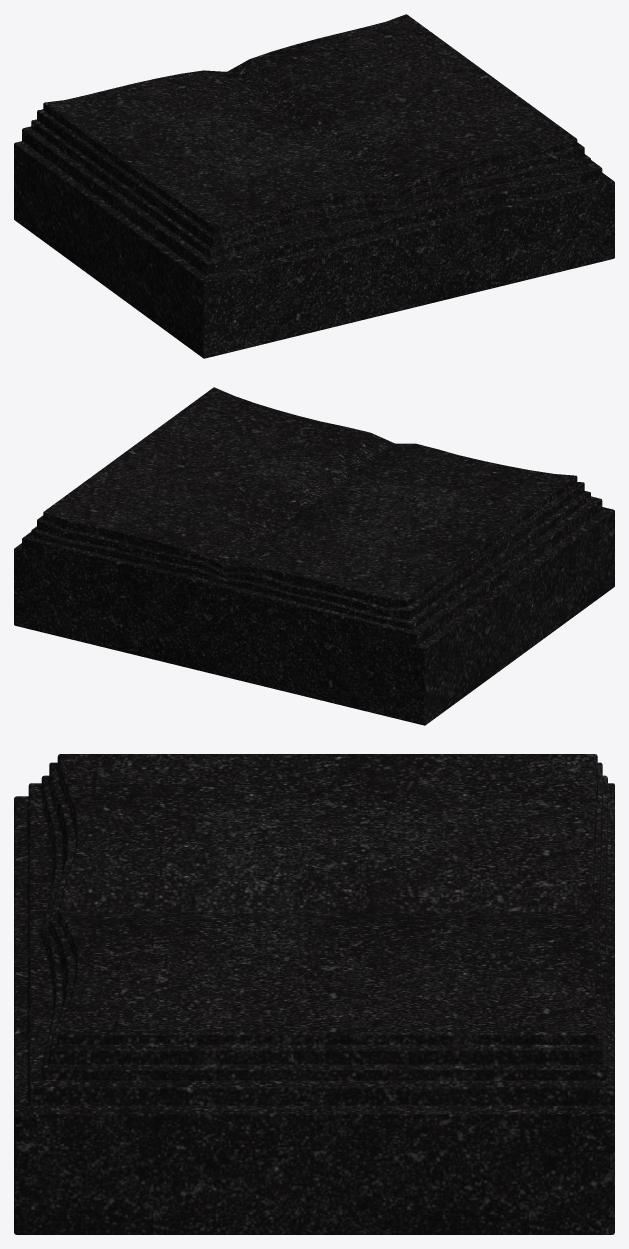
The model's file is Number 41.gltf.
3 renders of one model, top to bottom at view 1: azimuth 30°, elevation 25°; view 2: azimuth 150°, elevation 25°; view 3: azimuth 270°, elevation 25°, orthographic. The views are drawn at different scales.
Parts seen in each view (by area): view 1: Cube.037; view 2: Cube.037; view 3: Cube.037.
Part boxes in pixels (x1,y1,x2,y2): Cube.037: (14, 14, 614, 358); Cube.037: (14, 387, 614, 725); Cube.037: (14, 754, 614, 1234).
Bounding box in the file's own units: 0.5 × 0.1346 × 0.4.
1 material, 1 textured.
